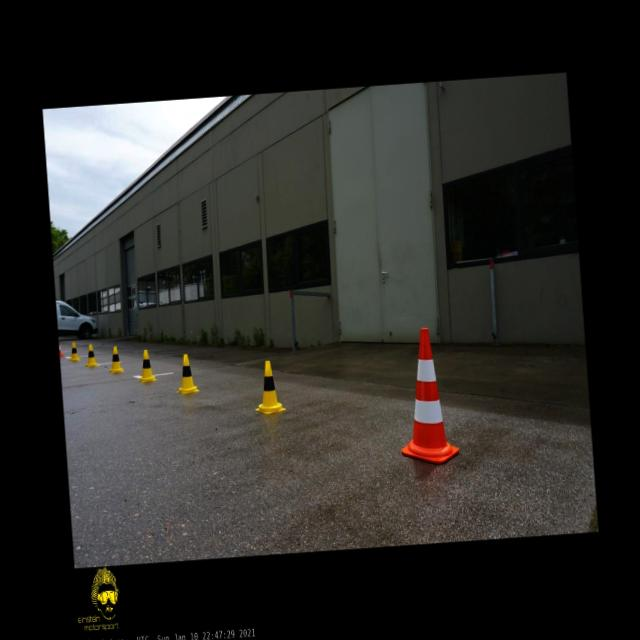large_orange_cone: (393, 326, 459, 466)
orange_cone: (58, 342, 62, 356)
yellow_cone: (252, 360, 286, 414), (174, 353, 198, 394), (136, 348, 156, 382), (108, 346, 124, 372), (84, 344, 98, 366), (68, 342, 79, 362)
